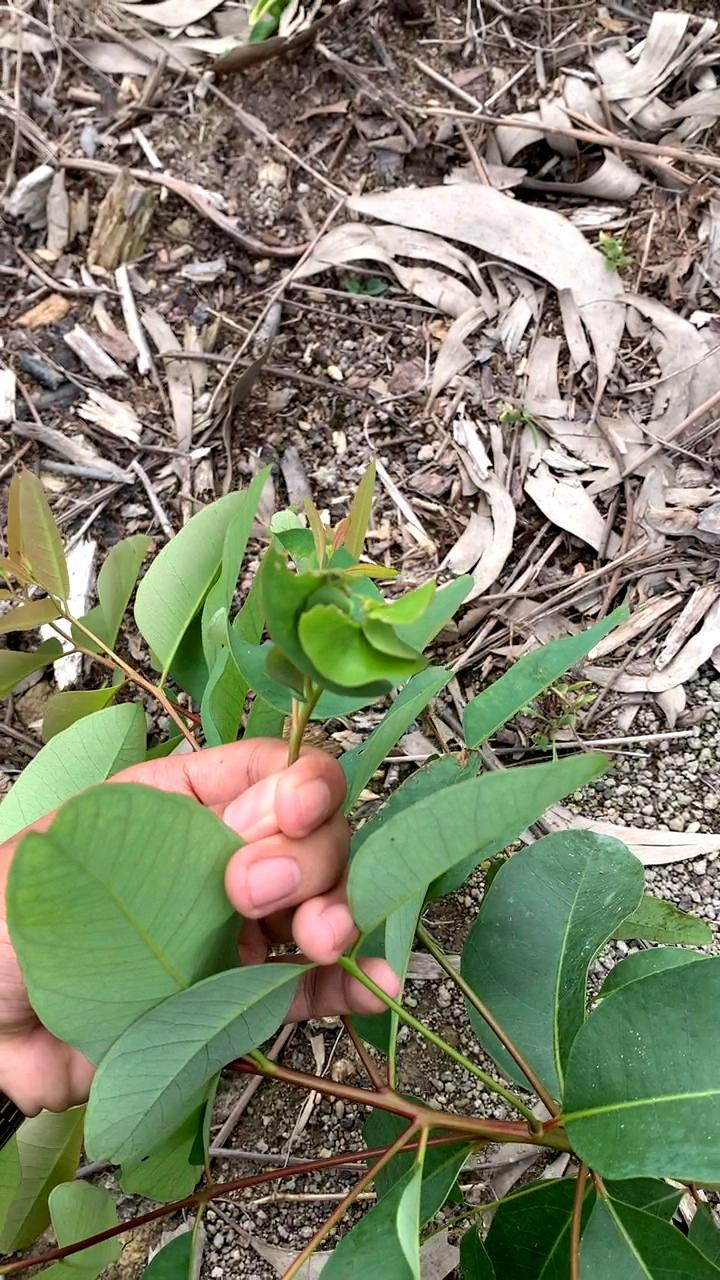Leaf Roller - Leaf: (253, 523, 475, 716)
